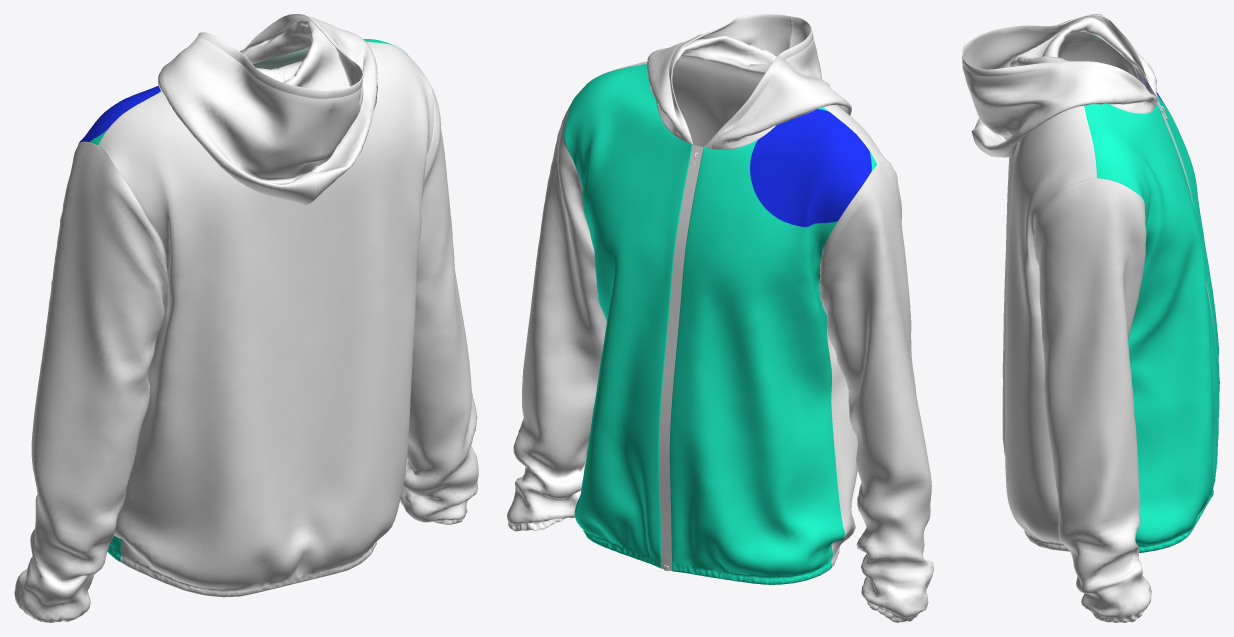
The picture shows the model from 3 angles, left to right: view 1: azimuth 30°, elevation 25°; view 2: azimuth 150°, elevation 25°; view 3: azimuth 270°, elevation 25°; orthographic projection. The views are drawn at different scales.
Visible parts, largest first — view 1: Clothing_SYD0043_3D; view 2: Clothing_SYD0043_3D; view 3: Clothing_SYD0043_3D.
Part boxes in pixels (left/top/right/bottom): Clothing_SYD0043_3D: left=14, top=14, right=478, bottom=622; Clothing_SYD0043_3D: left=507, top=14, right=933, bottom=622; Clothing_SYD0043_3D: left=962, top=14, right=1219, bottom=622.
Bounding box in the file's own units: 3.13 × 3.7 × 1.75.
8 materials, 1 textured.
